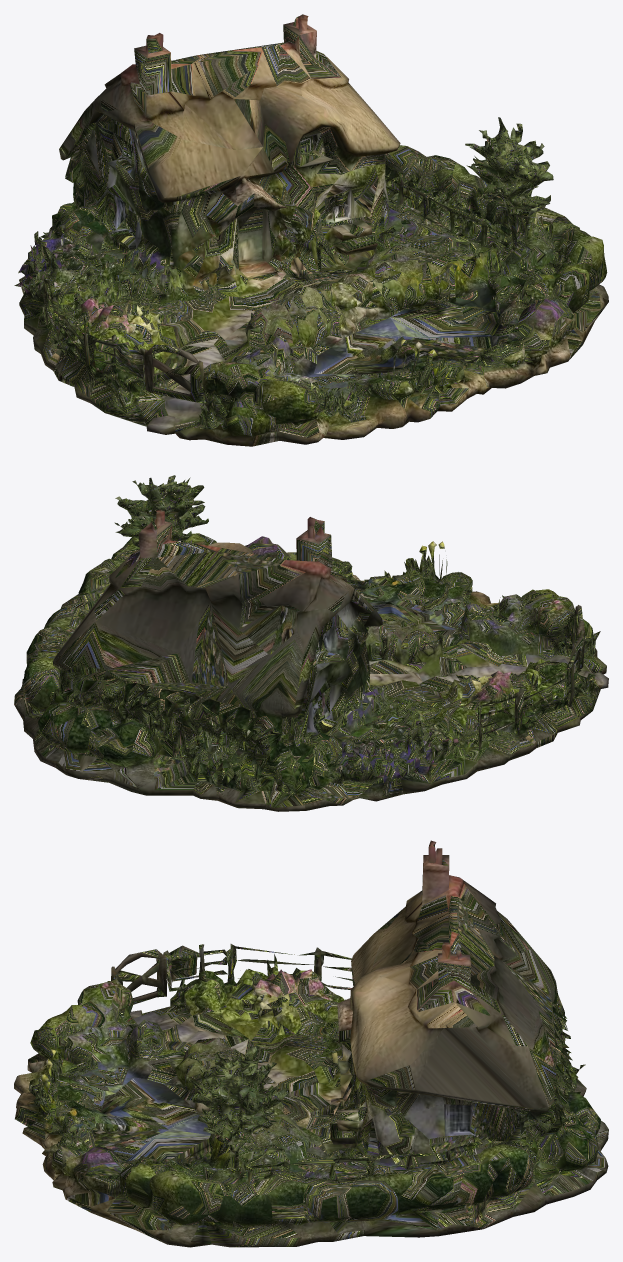
File: An_english_country_co.glb
3 renders of one model, top to bottom at view 1: azimuth 30°, elevation 25°; view 2: azimuth 150°, elevation 25°; view 3: azimuth 270°, elevation 25°, orthographic. The views are drawn at different scales.
Parts seen in each view (by area): view 1: An_english_country_co; view 2: An_english_country_co; view 3: An_english_country_co.
Part boxes in pixels (bbox=[...]): An_english_country_co: bbox=[14, 14, 608, 446]; An_english_country_co: bbox=[14, 475, 608, 811]; An_english_country_co: bbox=[14, 840, 608, 1247].
Bounding box in the file's own units: 1.86 × 0.866 × 1.9.
1 material, 1 textured.
